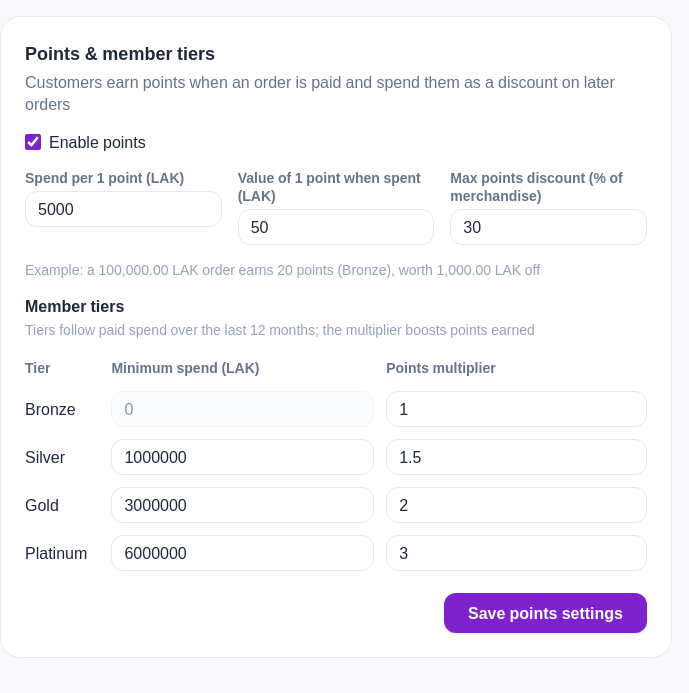
Test case: LoyaltySettingsCard › ຄ່າຜິດ: ບອກຊ່ອງທີ່ຜິດ ແລະ ບໍ່ຍິງ API
Clear the field labelled "Spend per 1 point (LAK)": (123, 209) [25,191,222,227]
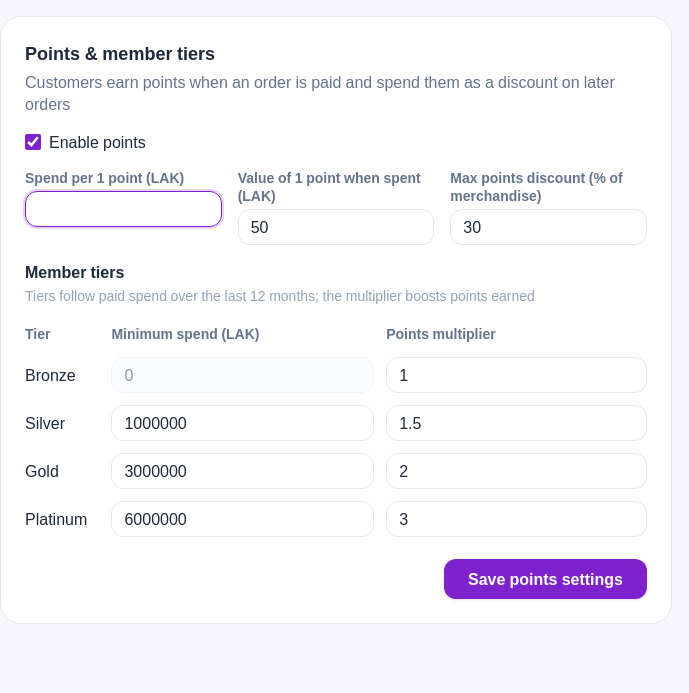
Replace the text in the field labelled "Max points discount (% of merchandise)" with "150": (549, 227) [450,209,647,245]
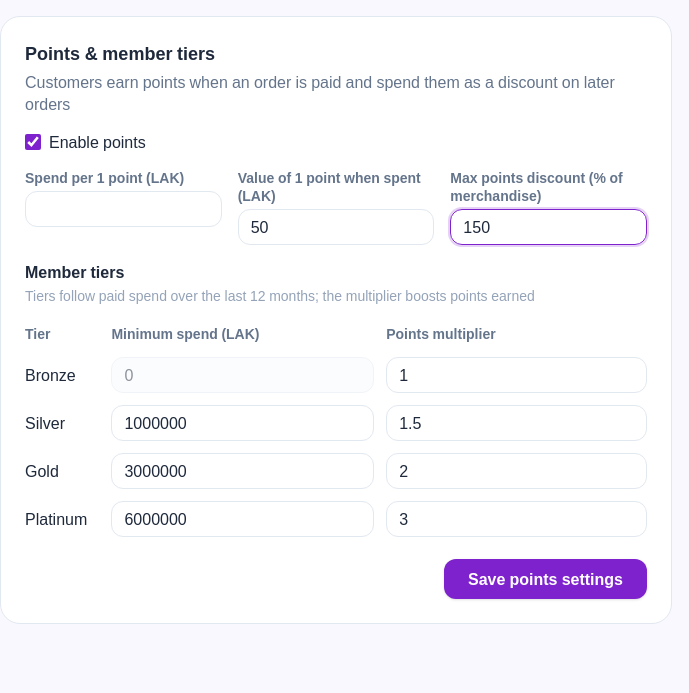
Replace the text in the field named "Minimum spend for Gold" with "500000": (243, 471) [111,453,374,489]
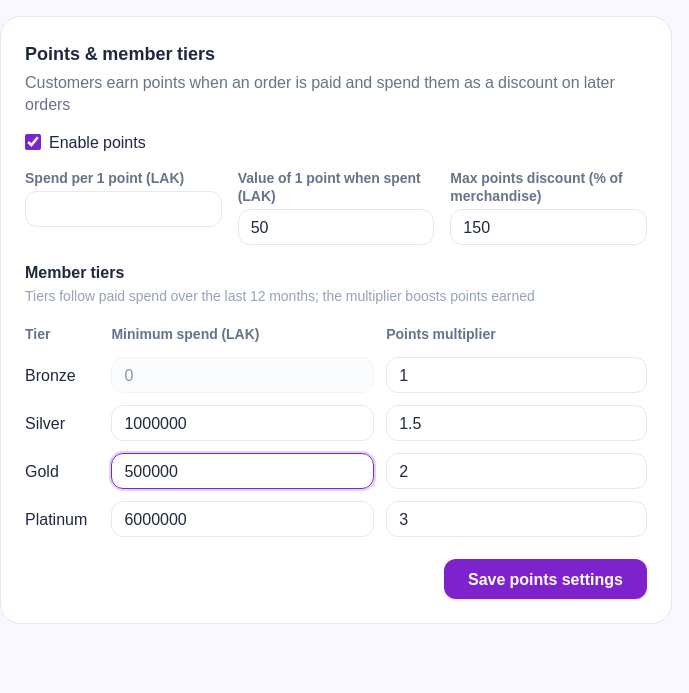
Click the button "Save points settings": (546, 579) [444,559,647,599]
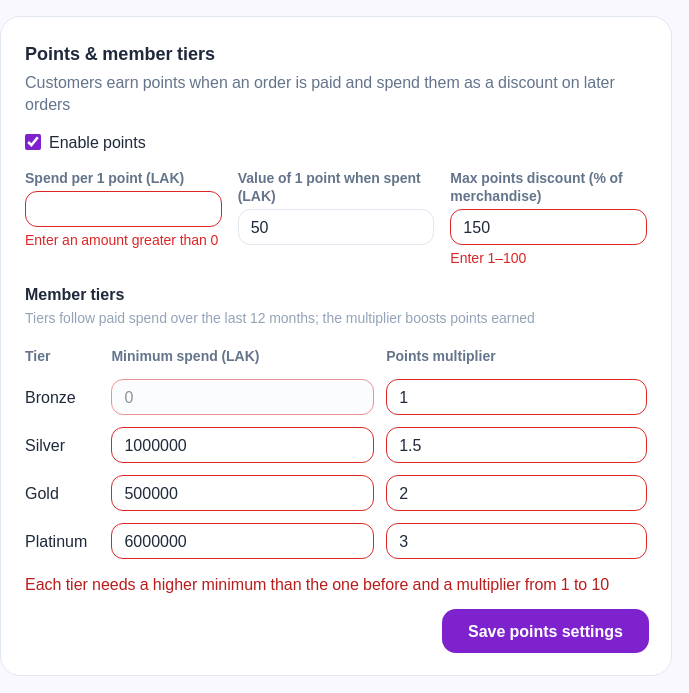
expect the text "Enter an amount greater than 0" is shown: met, box [25,231,222,249]
expect the text "Enter 1–100" is shown: met, box [450,246,526,269]
expect the text "Each tier needs a higher minimum" is shown: met, box [25,571,609,597]
